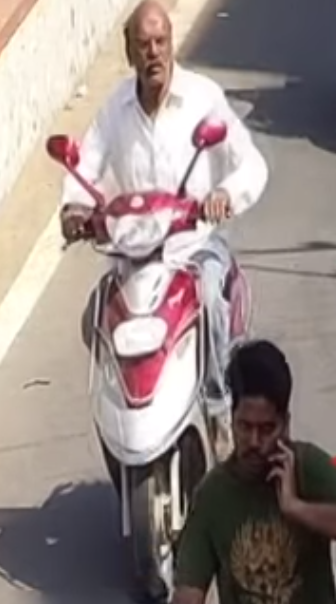h_bike: (60, 10, 264, 582)
h_nohelmet: (221, 333, 295, 482), (119, 1, 183, 105)
numplate: (107, 315, 169, 361)
